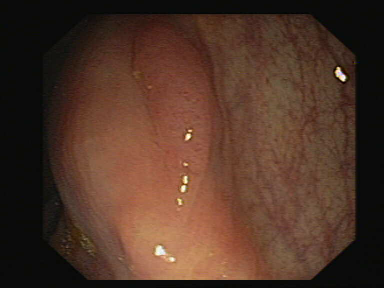polyp: (118, 36, 242, 167)
